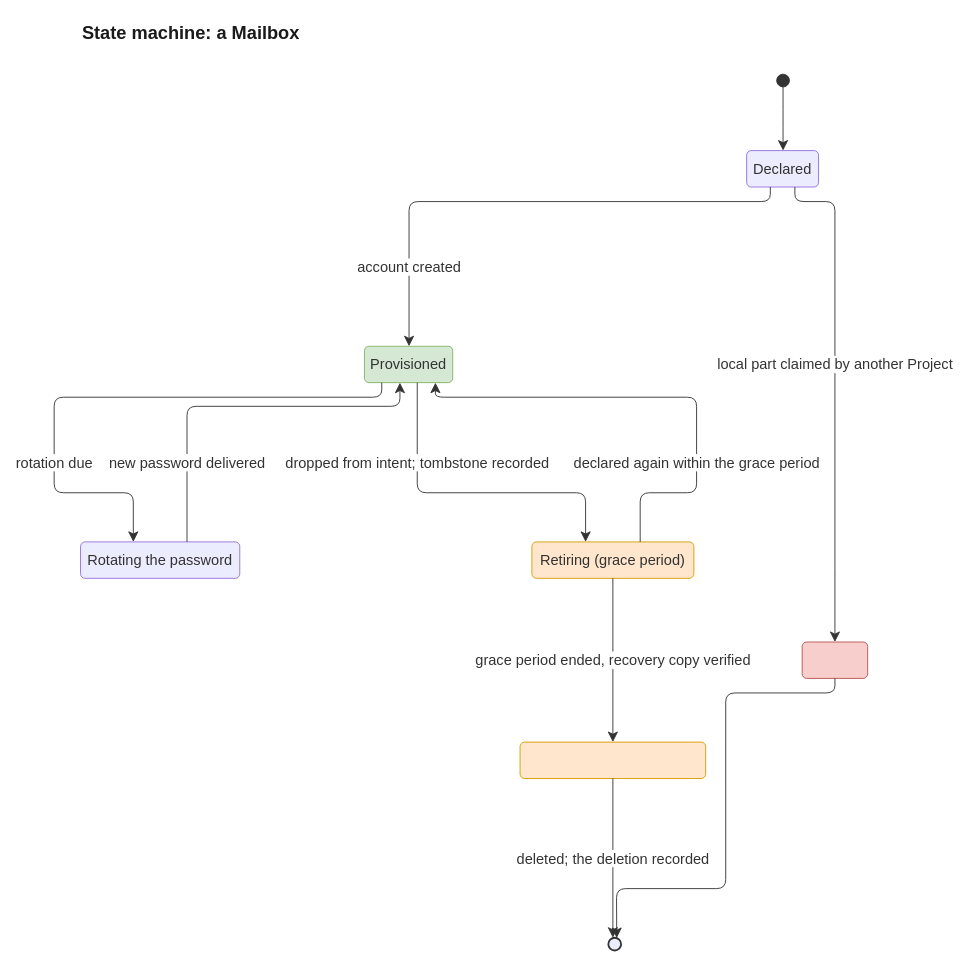
The diagram is 968 pixels wide and 966 high, and some of its shapes have lost their labels. Here are the shapes that lost their labels. From the top down, the box of each, then its label:
(801, 641, 868, 678): Refused
(519, 741, 706, 779): Retired, awaiting deletion
